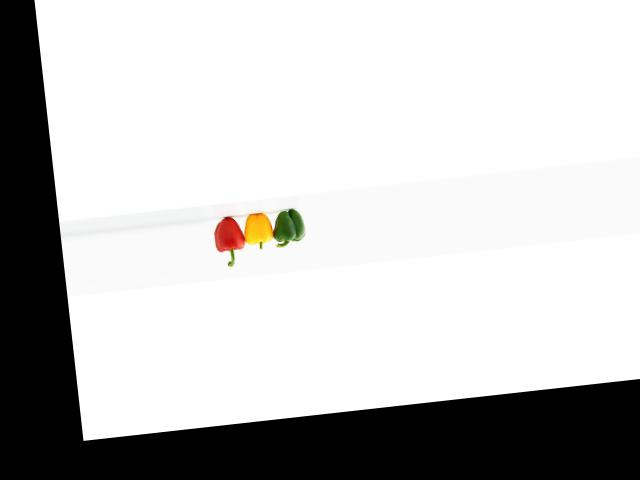bell_pepper: (203, 210, 251, 272)
